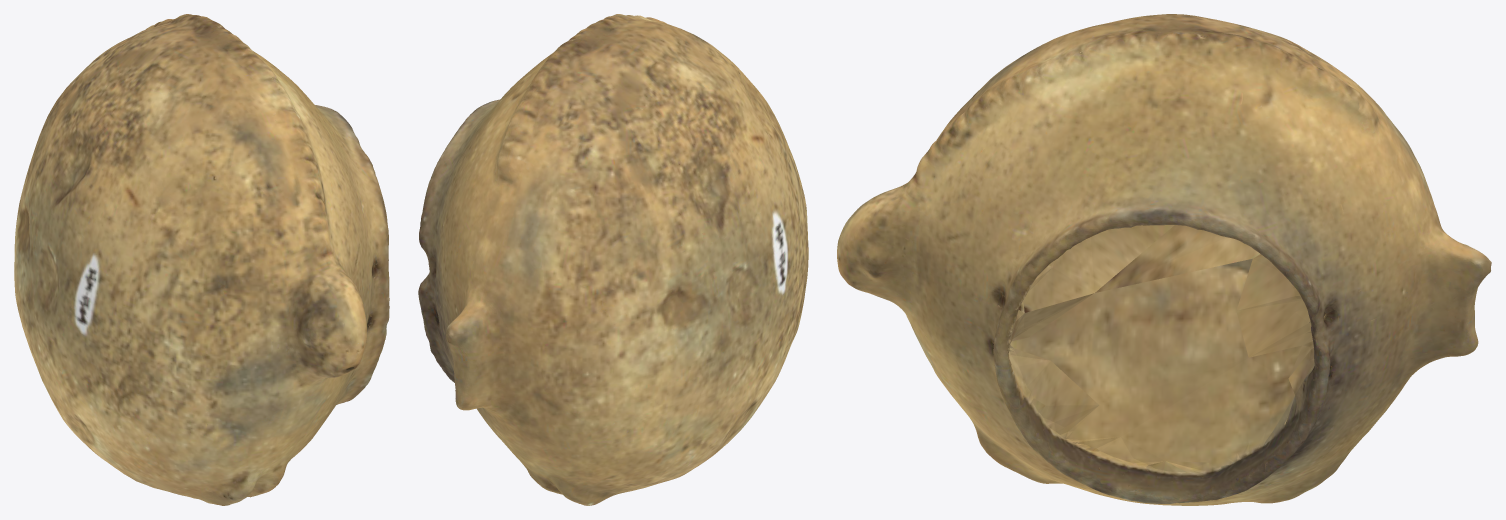
Rendered from Ark_HM_1304_HI.glb.
3 renders of one model, left to right at view 1: azimuth 30°, elevation 25°; view 2: azimuth 150°, elevation 25°; view 3: azimuth 270°, elevation 25°, orthographic. The views are drawn at different scales.
Size of the model in its own units: 0.2892 by 0.4153 by 0.4993.
Materials: 1 (1 with a texture image).
